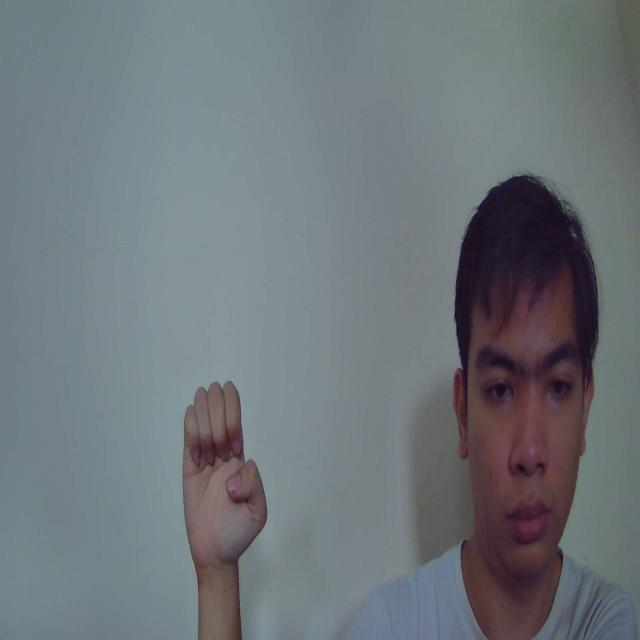E: (183, 380, 269, 566)
